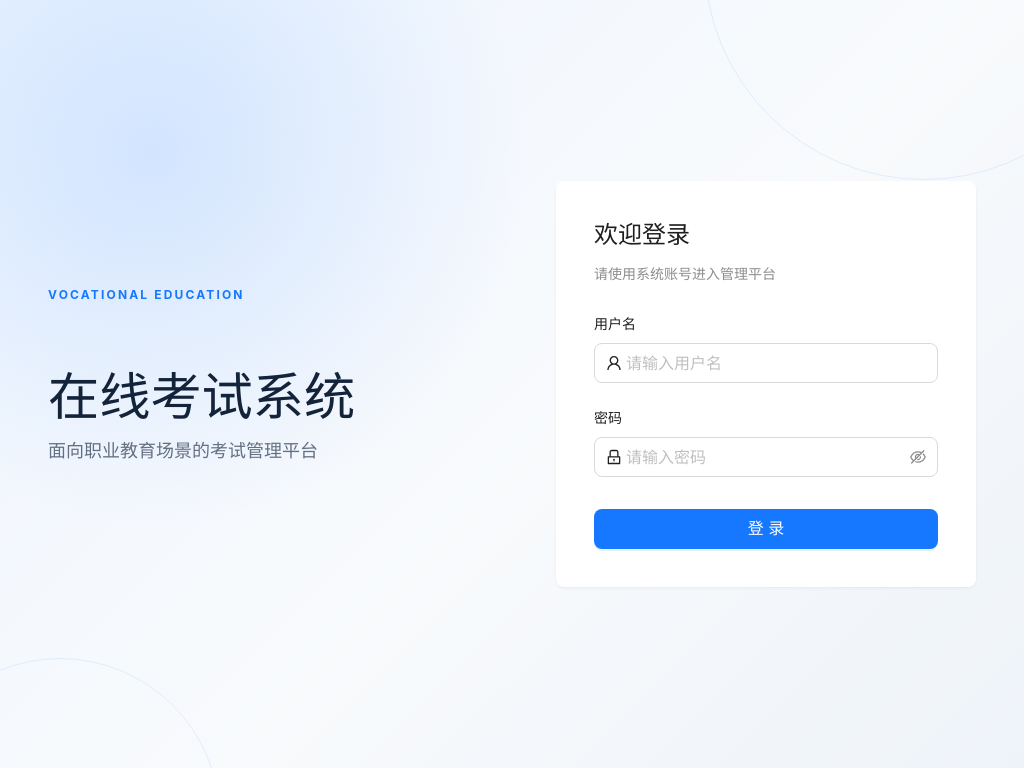
Test: login page › shows a safe, clear message for an incorrect password
Type "admin" into the field labelled "用户名" at (776, 363), box [626,351,926,375]
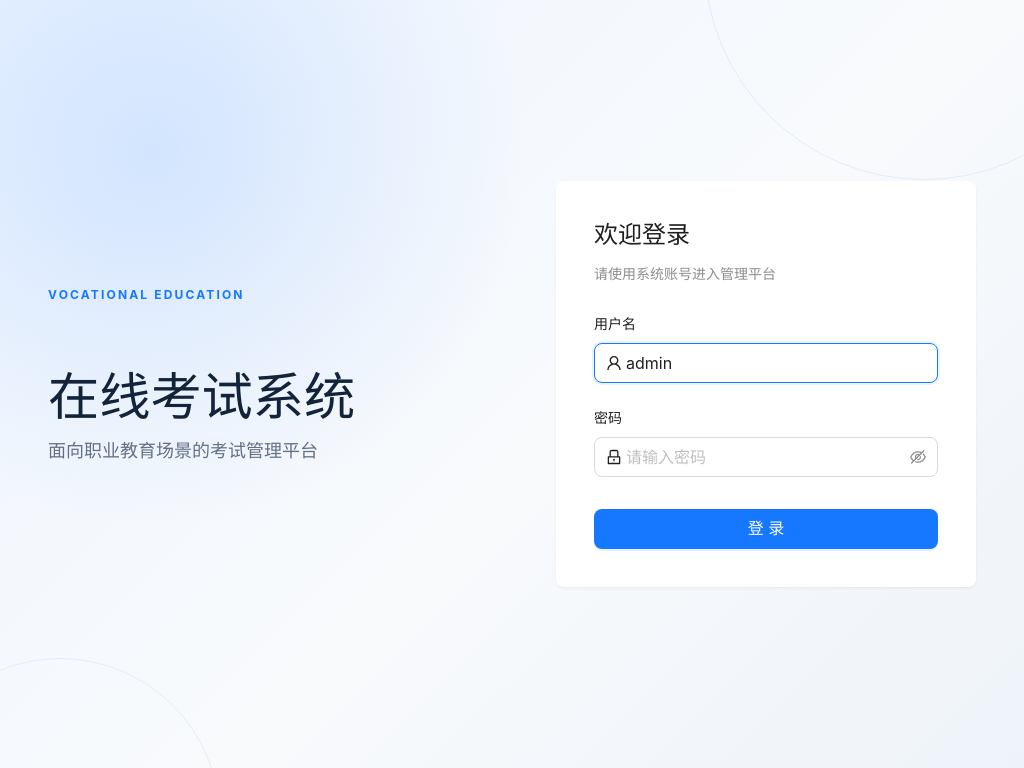
Type "wrong-password" into the password field labelled "密码" at (766, 457), box [626,445,906,469]
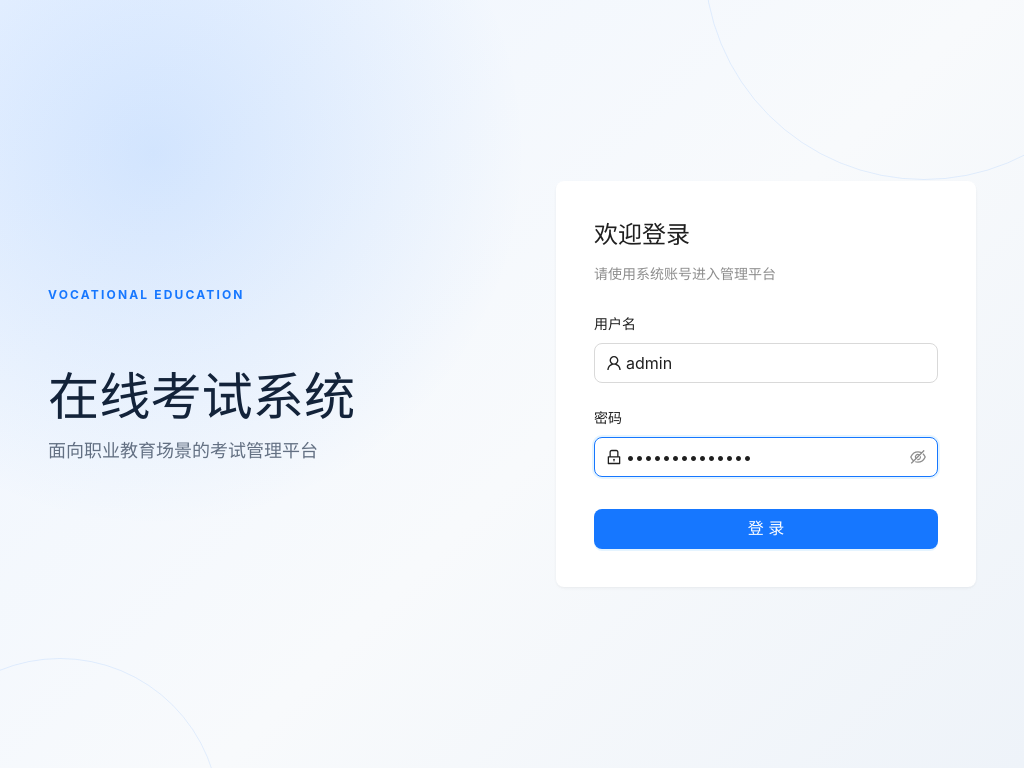
Click the button "登 录" at (766, 529), box [594,509,938,549]
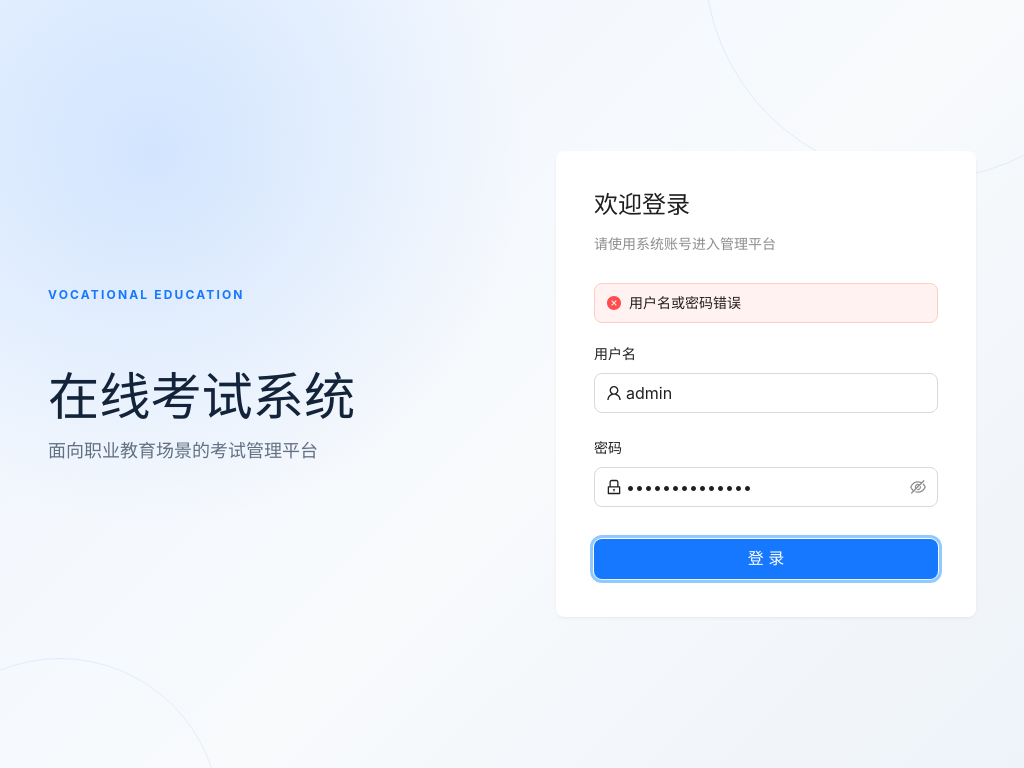
Expected: the button "登 录" is enabled, [594,539,938,579]
Now the text "用户名或密码错误" is shown, box [629,294,741,311]
